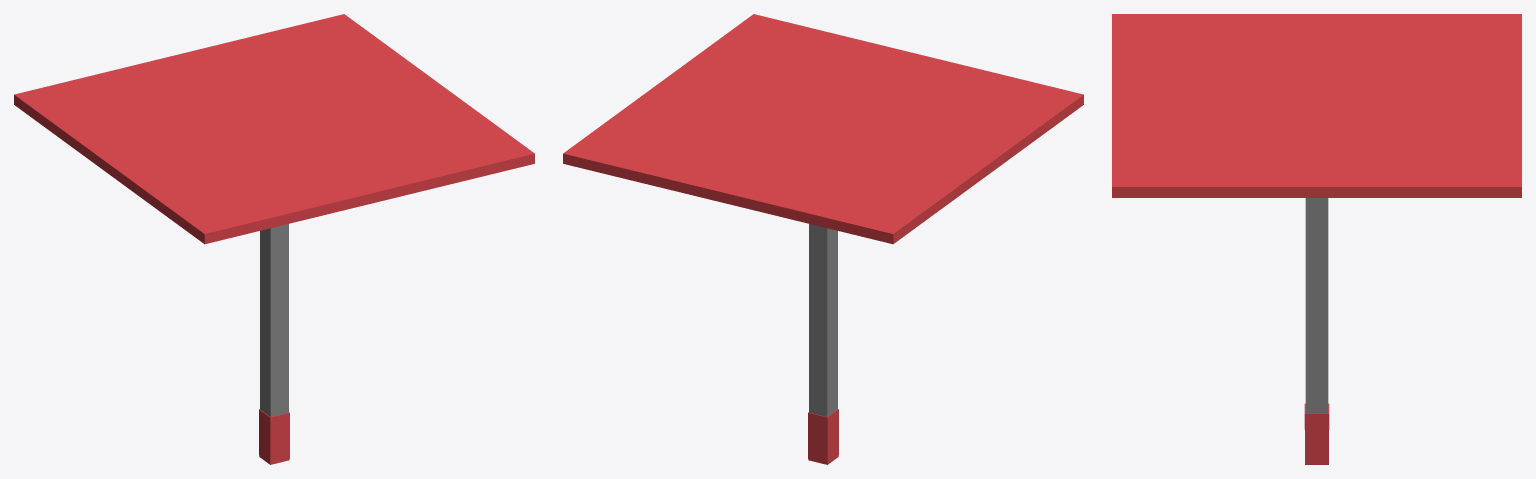
Rendered from platform.glb.
3 renders of one model, left to right at view 1: azimuth 30°, elevation 25°; view 2: azimuth 150°, elevation 25°; view 3: azimuth 270°, elevation 25°, orthographic. The views are drawn at different scales.
Visible parts, largest first — view 1: Cube.001, Cube, Cube.002; view 2: Cube.001, Cube, Cube.002; view 3: Cube.001, Cube, Cube.002.
Part boxes in pixels (x1,y1,x2,y2): Cube.001: [14, 14, 534, 244]; Cube: [260, 224, 288, 416]; Cube.002: [259, 409, 289, 464]; Cube.001: [563, 14, 1083, 244]; Cube: [809, 224, 837, 416]; Cube.002: [808, 409, 838, 464]; Cube.001: [1112, 14, 1521, 197]; Cube: [1305, 198, 1328, 413]; Cube.002: [1304, 403, 1329, 464].
Bounding box in the file's own units: 15.04 × 14.55 × 15.04.
